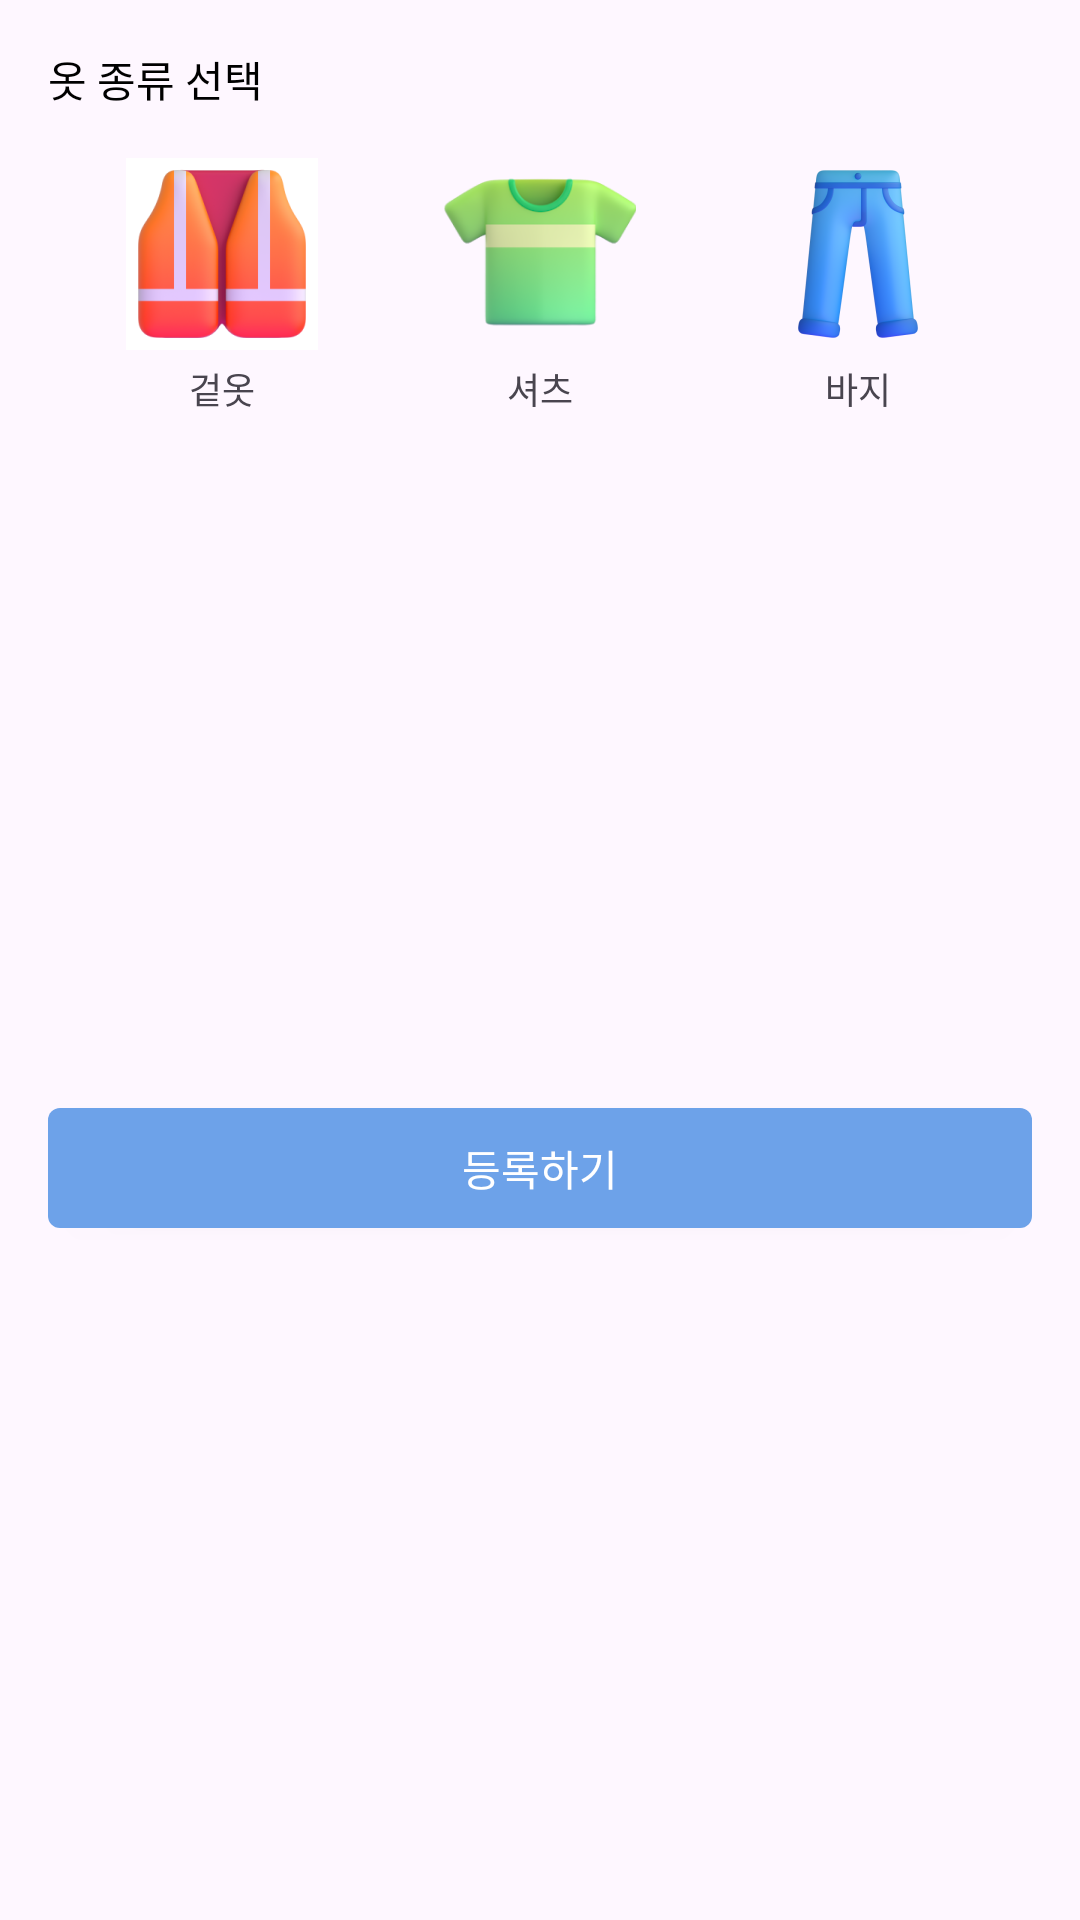

Named icons in this screenshot (1080*1920) and their bounding boxes, (x1, y1, x2, y2):
cloth: (138, 170, 306, 338), (798, 170, 918, 338), (444, 179, 636, 326)
